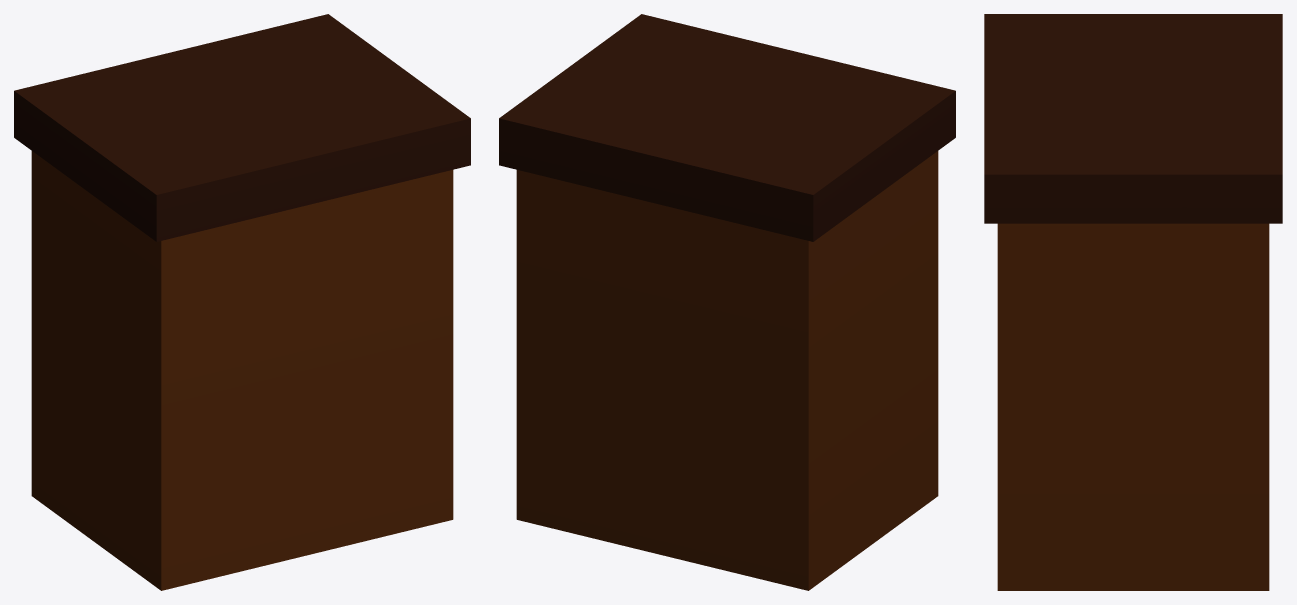
Rendered from Cooking_Step_baked.glb.
The picture shows the model from 3 angles, left to right: view 1: azimuth 30°, elevation 25°; view 2: azimuth 150°, elevation 25°; view 3: azimuth 270°, elevation 25°; orthographic projection. The views are drawn at different scales.
Visible parts, largest first — view 1: Step_block, Step_lip; view 2: Step_block, Step_lip; view 3: Step_block, Step_lip.
Boxes of the visible parts, x1,y1,x2,y2 form: Step_block: [31, 151, 453, 590]; Step_lip: [14, 14, 470, 241]; Step_block: [516, 151, 938, 590]; Step_lip: [499, 14, 955, 241]; Step_block: [997, 223, 1269, 590]; Step_lip: [984, 14, 1282, 223].
Bounding box in the file's own units: 0.84 × 1.03 × 0.66.
